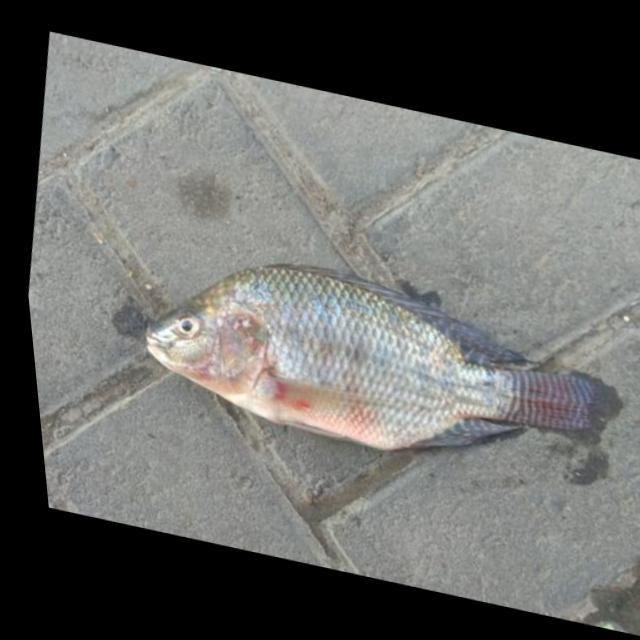Tilapia: (119, 224, 630, 498)
